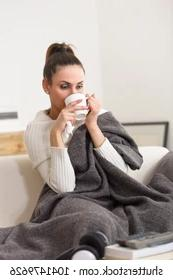blanket: (0, 110, 173, 260)
sweater: (24, 108, 132, 194)
